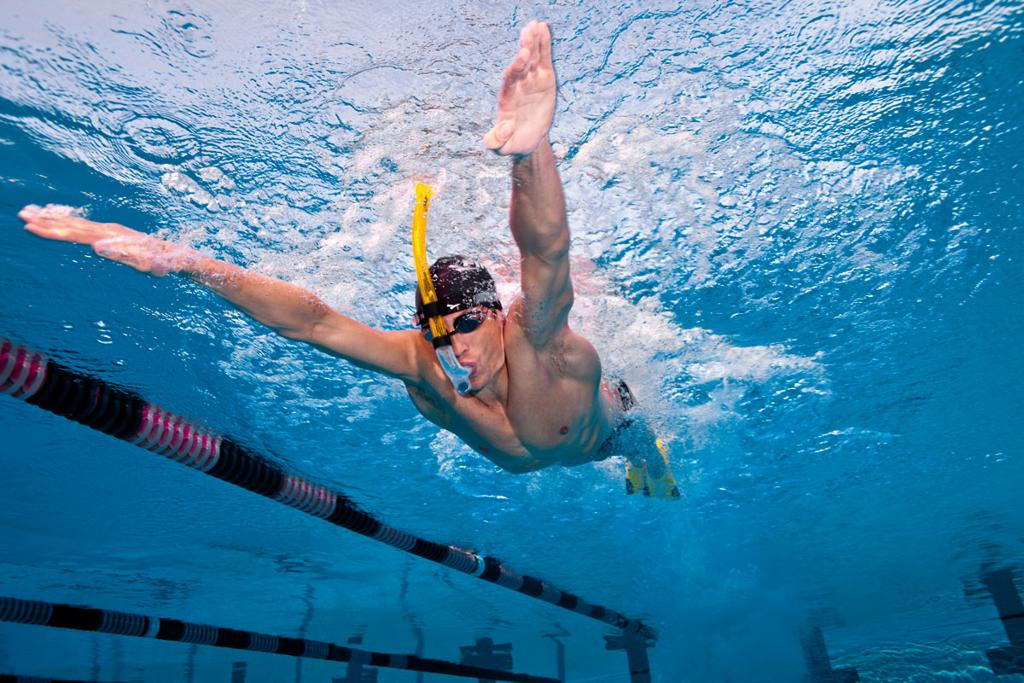face: (420, 294, 496, 388)
